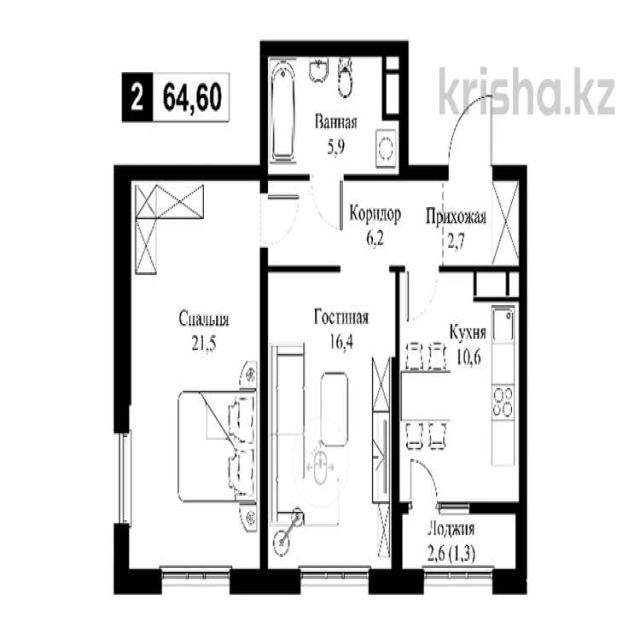balcony: (402, 506, 520, 586)
bathroom: (264, 47, 403, 173)
hallway: (264, 177, 420, 265), (423, 173, 521, 266)
kitchen: (397, 270, 525, 504)
living_room: (120, 177, 264, 588), (269, 267, 399, 587)
